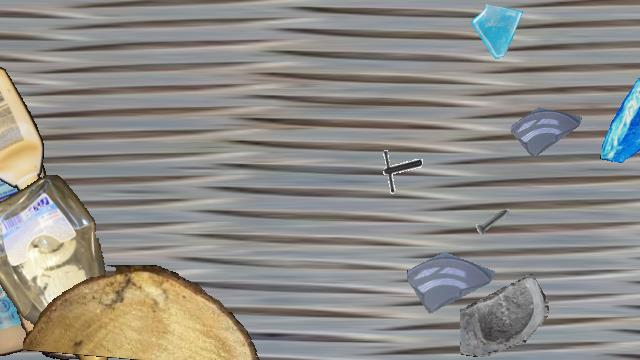glass: (460, 271, 548, 359), (407, 234, 495, 322), (511, 91, 583, 163), (598, 77, 640, 171), (470, 1, 528, 59)
metal: (13, 150, 75, 212), (374, 147, 422, 195), (472, 201, 514, 243)
plastic: (0, 1, 94, 357), (0, 175, 120, 359), (0, 66, 43, 194)
wood: (23, 265, 263, 359), (15, 253, 91, 359)
